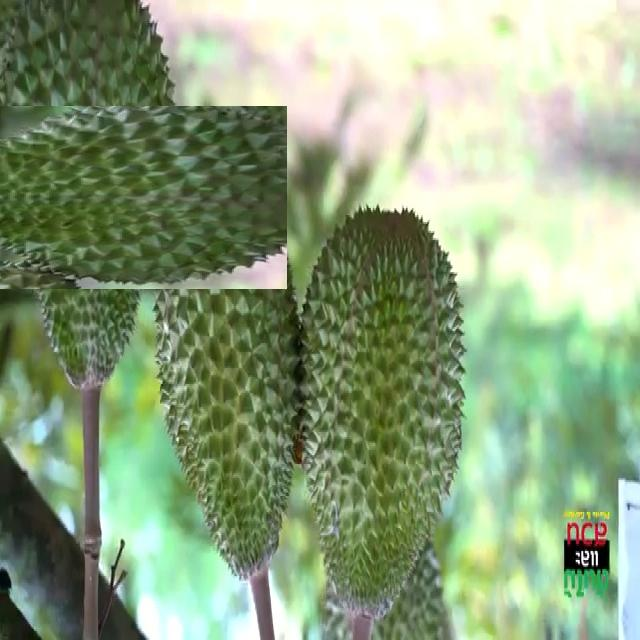durian: (296, 198, 470, 624), (0, 54, 236, 342), (150, 180, 301, 586)
